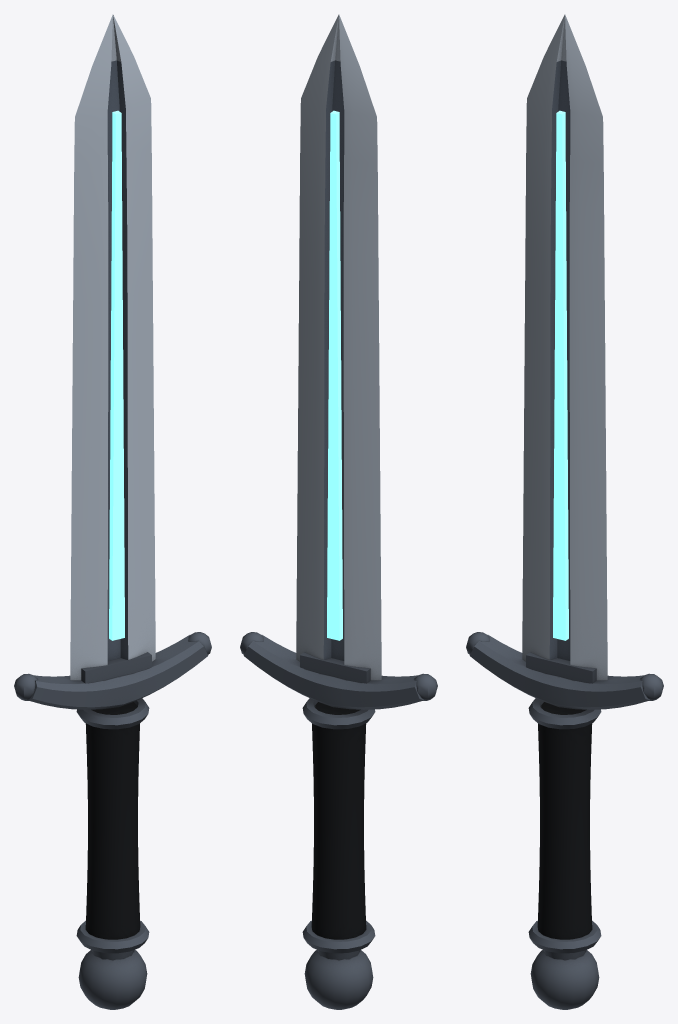
File: espada_plasma.fbx
3 renders of one model, left to right at view 1: azimuth 30°, elevation 25°; view 2: azimuth 150°, elevation 25°; view 3: azimuth 330°, elevation 25°, orthographic.
Visible parts, largest first — view 1: EspadaPlasma_Hoja, EspadaPlasma_Empunadura, EspadaPlasma_Neon_01, EspadaPlasma_Guarda, EspadaPlasma_Pomo; view 2: EspadaPlasma_Hoja, EspadaPlasma_Empunadura, EspadaPlasma_Neon_01, EspadaPlasma_Guarda, EspadaPlasma_Pomo; view 3: EspadaPlasma_Hoja, EspadaPlasma_Empunadura, EspadaPlasma_Neon_01, EspadaPlasma_Guarda, EspadaPlasma_Pomo.
Part boxes in pixels (x1,y1,x2,y2): EspadaPlasma_Hoja: [70, 14, 155, 683]; EspadaPlasma_Empunadura: [76, 698, 149, 953]; EspadaPlasma_Neon_01: [109, 110, 124, 640]; EspadaPlasma_Guarda: [14, 632, 211, 709]; EspadaPlasma_Pomo: [78, 949, 147, 1009]; EspadaPlasma_Hoja: [296, 14, 381, 683]; EspadaPlasma_Empunadura: [302, 698, 375, 953]; EspadaPlasma_Neon_01: [327, 110, 342, 640]; EspadaPlasma_Guarda: [240, 632, 437, 709]; EspadaPlasma_Pomo: [304, 949, 373, 1009]; EspadaPlasma_Hoja: [522, 14, 607, 683]; EspadaPlasma_Empunadura: [528, 698, 601, 953]; EspadaPlasma_Neon_01: [553, 110, 568, 640]; EspadaPlasma_Guarda: [466, 632, 663, 709]; EspadaPlasma_Pomo: [530, 949, 599, 1009].
Bounding box in the file's own units: 0.1915 × 0.931 × 0.0623.
2 materials, 1 textured.
